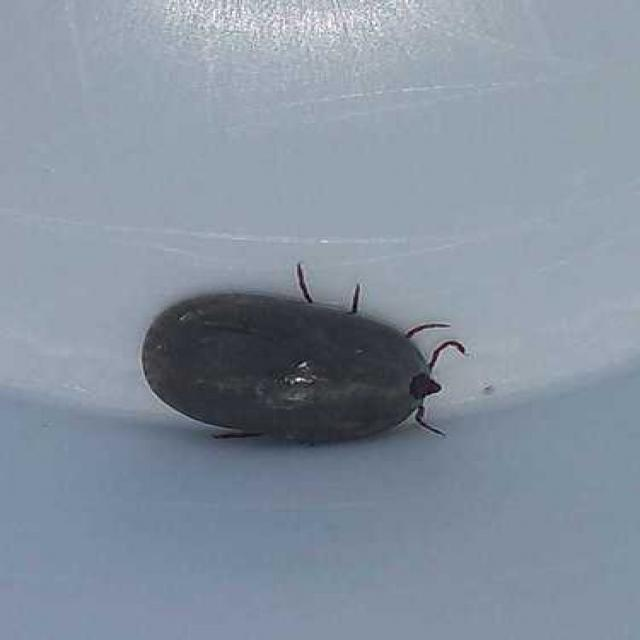Rhipicephalus Sanguineus-F-Fed: (138, 265, 466, 448)
